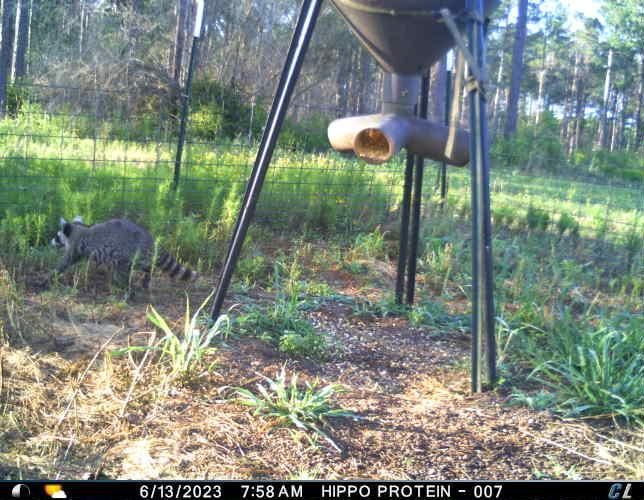Raccoon: (49, 213, 203, 301)
